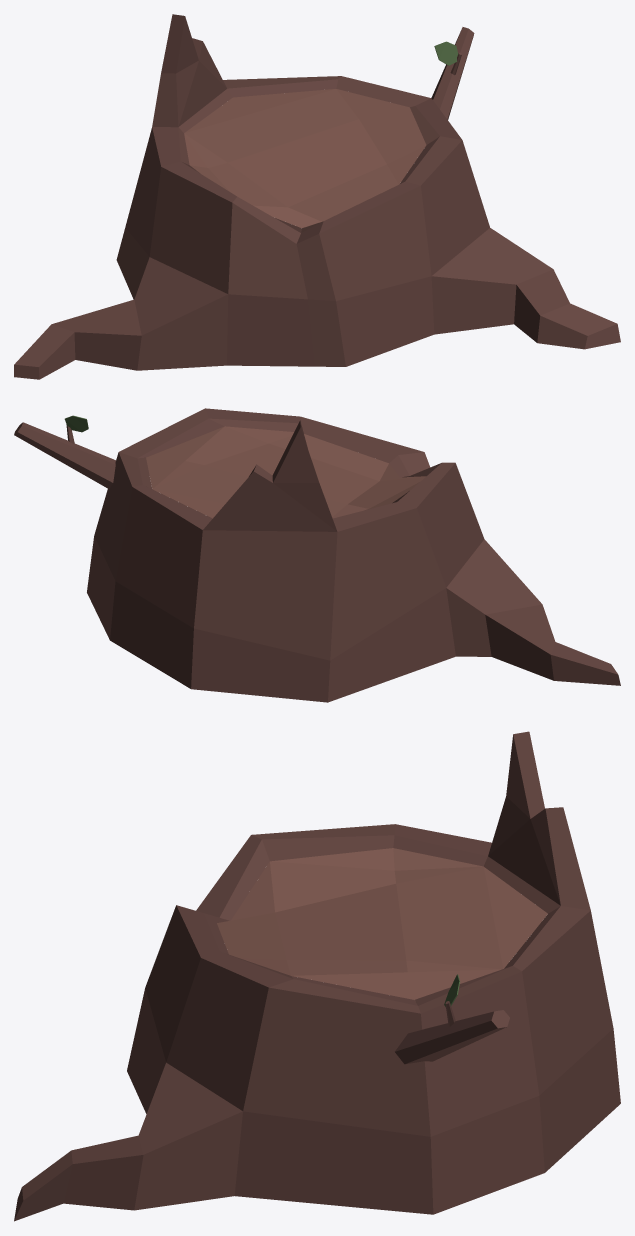
Rendered from tree-stump.glb.
3 views of the same model, one above another, from view 1: azimuth 30°, elevation 25°; view 2: azimuth 150°, elevation 25°; view 3: azimuth 270°, elevation 25° (orthographic). The views are drawn at different scales.
Visible parts, largest first — view 1: TreeStump; view 2: TreeStump; view 3: TreeStump.
Boxes of the visible parts, x1,y1,x2,y2 form: TreeStump: (14, 14, 620, 379); TreeStump: (14, 408, 620, 702); TreeStump: (14, 731, 620, 1221).
Bounding box in the file's own units: 1.36 × 0.6216 × 1.03.
